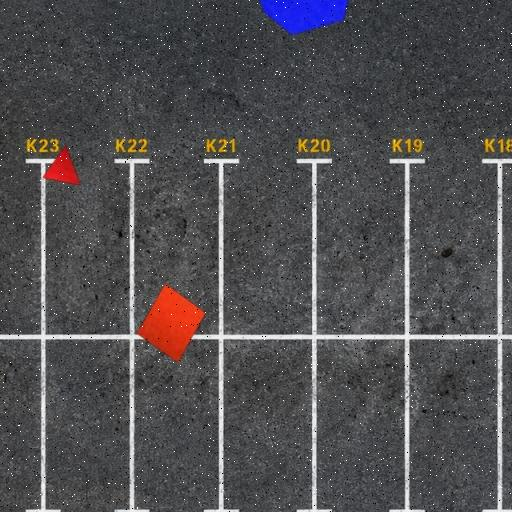RED_SQUARE: (136, 283, 206, 363)
